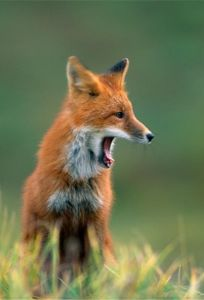fox: (19, 50, 163, 279)
